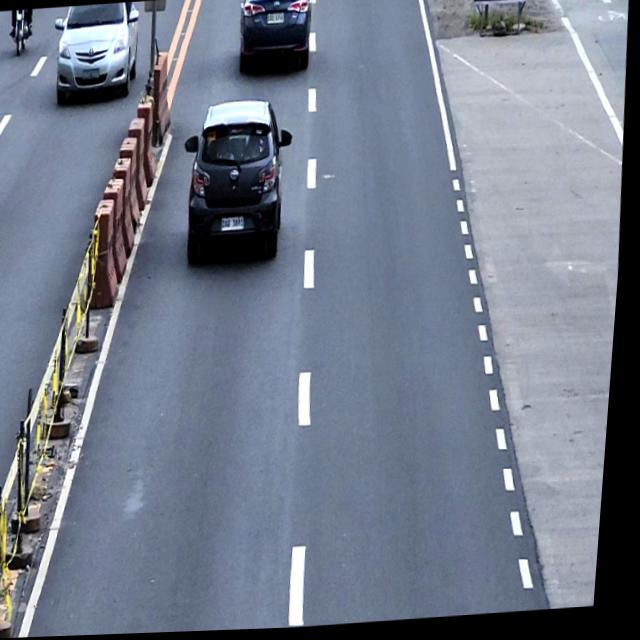Car: (178, 96, 301, 268), (50, 2, 144, 111), (236, 0, 315, 76)
License-Plate: (224, 216, 248, 233), (82, 67, 101, 82), (267, 13, 286, 27)
Motorcycle: (9, 9, 36, 59)
